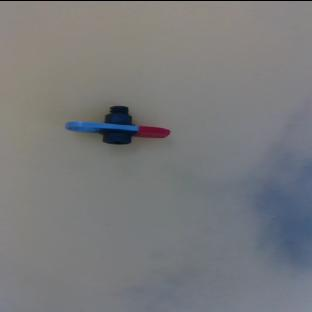part_1_good: (64, 103, 170, 144)
